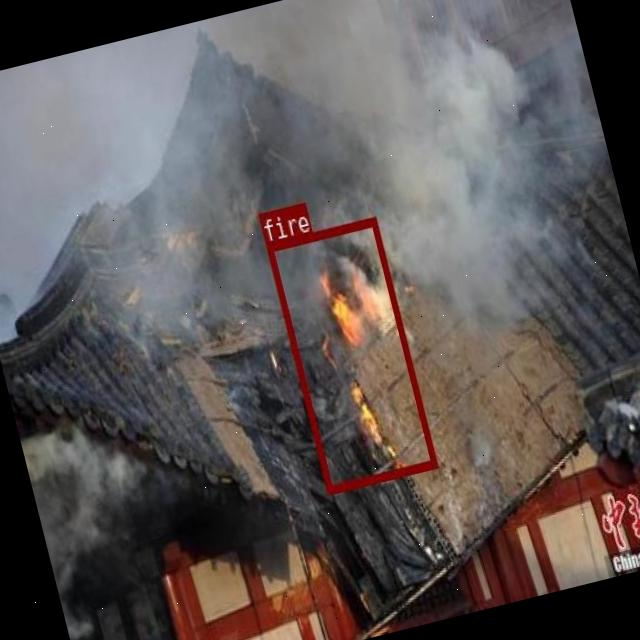fire: (264, 216, 436, 492)
